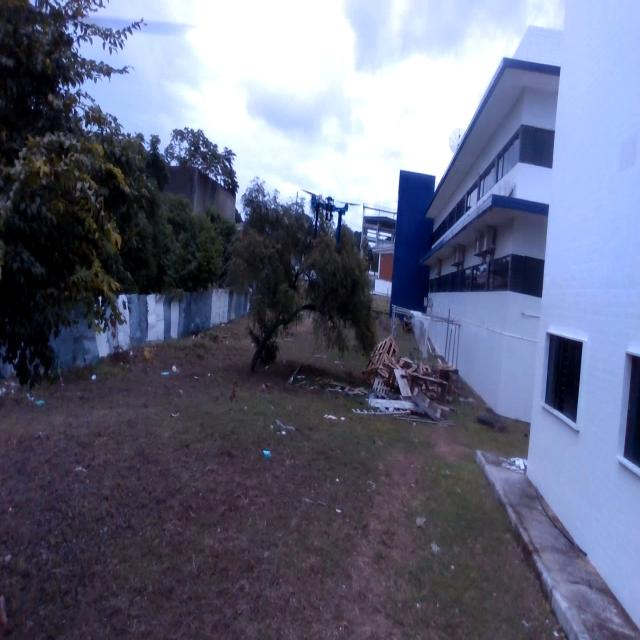-uav-: (302, 178, 360, 238)
